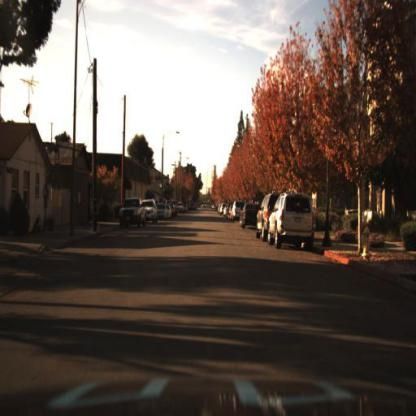car: (269, 190, 317, 254), (255, 189, 279, 242), (118, 198, 148, 232), (239, 202, 263, 232), (238, 203, 261, 232), (143, 196, 160, 225), (231, 199, 246, 225), (154, 202, 170, 223)
